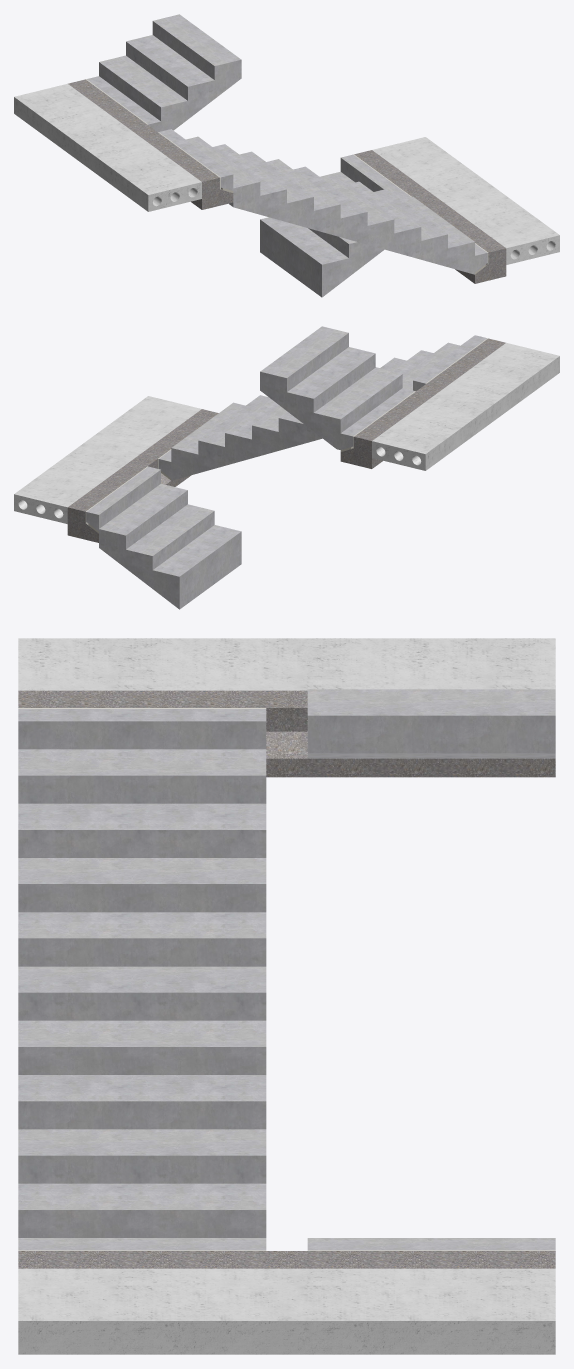
Rendered from stair-flight-flush-buried-01.glb.
The picture shows the model from 3 angles, top to bottom: view 1: azimuth 30°, elevation 25°; view 2: azimuth 150°, elevation 25°; view 3: azimuth 270°, elevation 25°; orthographic projection. The views are drawn at different scales.
Visible parts, largest first — view 1: 梯段, 上平台板, 下平台板, 上平台梁-斜肩L形承托, 下平台梁-斜肩L形承托, 无需标注; view 2: 梯段, 上平台板, 下平台板, 下平台梁-斜肩L形承托, 上平台梁-斜肩L形承托, 无需标注; view 3: 梯段, 下平台板, 上平台板, 上平台梁-斜肩L形承托, 下平台梁-斜肩L形承托.
Part boxes in pixels (x1=…): 梯段: x1=87, y1=14, x2=487, y2=297; 上平台板: x1=14, y1=84, x2=201, y2=211; 下平台板: x1=372, y1=137, x2=559, y2=264; 上平台梁-斜肩L形承托: x1=68, y1=79, x2=233, y2=209; 下平台梁-斜肩L形承托: x1=354, y1=150, x2=506, y2=283; 无需标注: x1=86, y1=79, x2=488, y2=274; 梯段: x1=86, y1=326, x2=486, y2=609; 上平台板: x1=372, y1=343, x2=559, y2=470; 下平台板: x1=14, y1=396, x2=201, y2=523; 下平台梁-斜肩L形承托: x1=67, y1=409, x2=218, y2=542; 上平台梁-斜肩L形承托: x1=340, y1=338, x2=505, y2=468; 无需标注: x1=85, y1=338, x2=487, y2=533; 梯段: x1=18, y1=689, x2=555, y2=1250; 下平台板: x1=18, y1=1268, x2=555, y2=1354; 上平台板: x1=18, y1=638, x2=555, y2=690; 上平台梁-斜肩L形承托: x1=18, y1=690, x2=555, y2=777; 下平台梁-斜肩L形承托: x1=18, y1=1251, x2=555, y2=1268.
Bounding box in the file's own units: 4.6 × 2.75 × 2.6.
7 materials, 5 textured.
